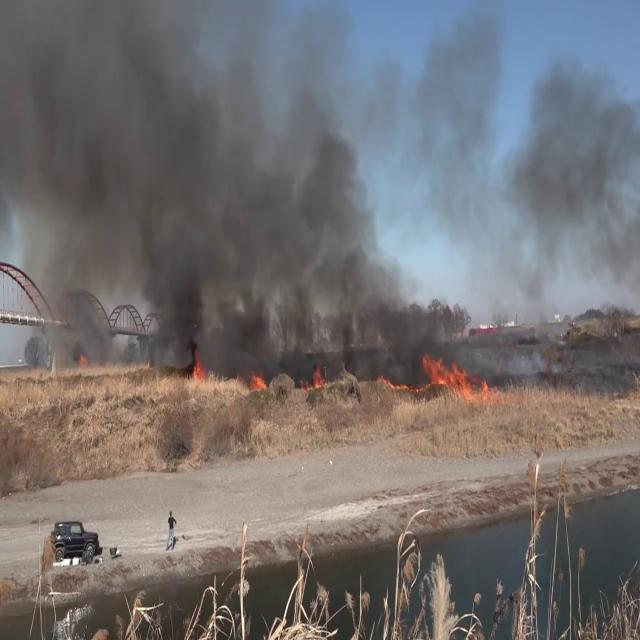Fire: (419, 350, 508, 402)
Smoke: (0, 0, 397, 367), (385, 26, 640, 354)
